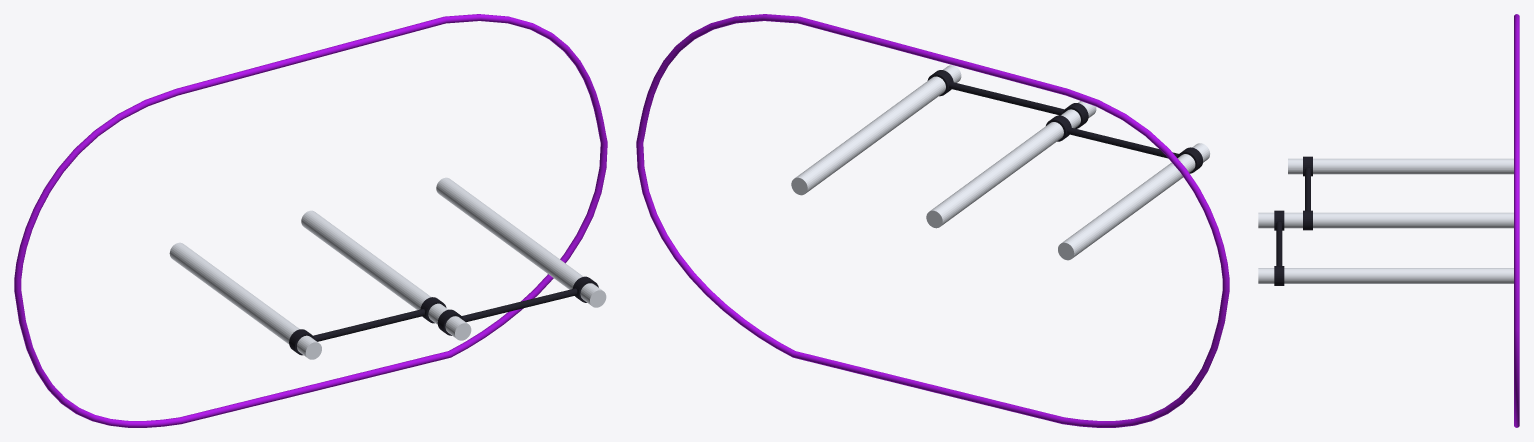
The model's file is kpro-014.glb.
The picture shows the model from 3 angles, left to right: view 1: azimuth 30°, elevation 25°; view 2: azimuth 150°, elevation 25°; view 3: azimuth 270°, elevation 25°; orthographic projection. The views are drawn at different scales.
Visible parts, largest first — view 1: _outline.011, circle.010, circle.008, circle.009, Cylinder.051, Cylinder.049; view 2: _outline.011, circle.010, circle.008, circle.009, Cylinder.051, Cylinder.049; view 3: circle.008, circle.010, circle.009, _outline.011, Cylinder.051, Cylinder.049.
Part boxes in pixels (x1,y1,x2,y2): _outline.011: (14, 14, 607, 427); circle.010: (436, 177, 606, 307); circle.008: (301, 210, 471, 340); circle.009: (169, 242, 321, 359); Cylinder.051: (462, 288, 577, 322); Cylinder.049: (313, 309, 424, 341); _outline.011: (636, 14, 1229, 427); circle.010: (791, 65, 961, 195); circle.008: (926, 101, 1096, 228); circle.009: (1058, 143, 1210, 260); Cylinder.051: (949, 81, 1064, 115); Cylinder.049: (1067, 127, 1178, 158); circle.008: (1258, 212, 1513, 228); circle.010: (1258, 268, 1513, 283); circle.009: (1288, 158, 1513, 174); _outline.011: (1514, 14, 1519, 427); Cylinder.051: (1276, 221, 1282, 265); Cylinder.049: (1305, 167, 1310, 210).
Bounding box in the file's own units: 5.79 × 3.2 × 2.63.
